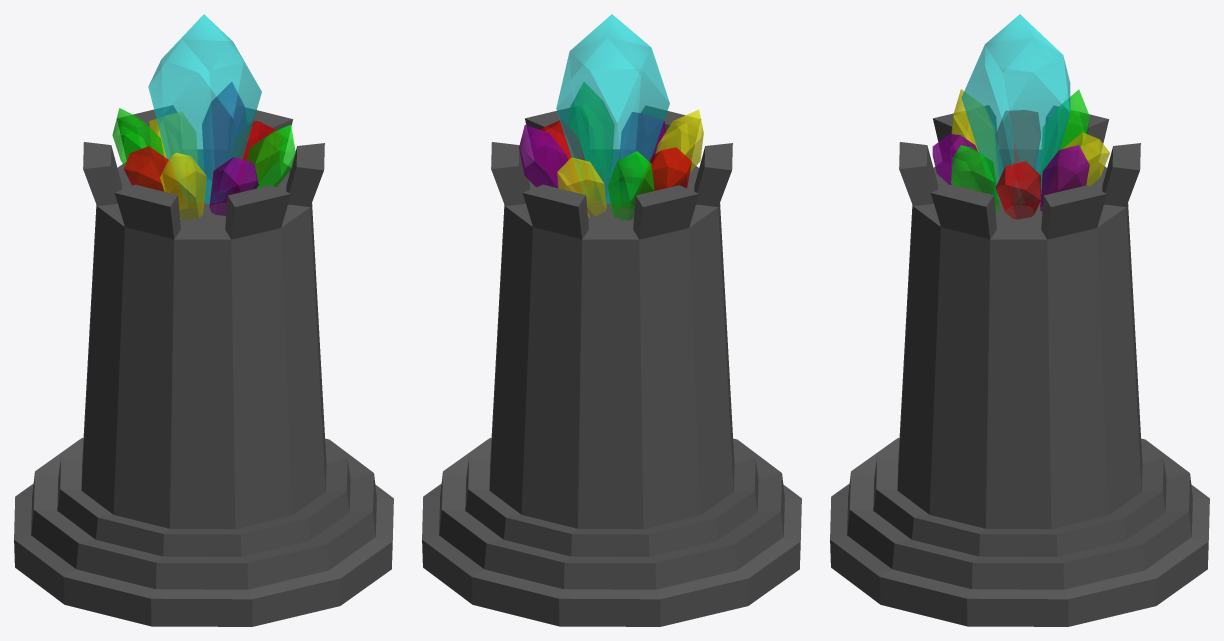
File: TowerM.fbx
3 views of the same model, side by side, from view 1: azimuth 30°, elevation 25°; view 2: azimuth 150°, elevation 25°; view 3: azimuth 270°, elevation 25° (orthographic).
Parts seen in each view (by area): view 1: Tower1, Gem_core, Gem7, Gem8, Gem6, Gem1, Gem3, Gem4, Gem2, Gem5; view 2: Tower1, Gem_core, Gem6, Gem7, Gem5, Gem4, Gem3, Gem2, Gem8, Gem1; view 3: Tower1, Gem_core, Gem3, Gem5, Gem2, Gem1, Gem8, Gem7, Gem6, Gem4.
Part boxes in pixels (<box>): Tower1: <box>14,105,393,626</box>; Gem_core: <box>148,14,261,203</box>; Gem7: <box>202,82,247,179</box>; Gem8: <box>160,152,206,219</box>; Gem6: <box>246,124,295,188</box>; Gem1: <box>231,120,283,181</box>; Gem3: <box>209,157,258,215</box>; Gem4: <box>149,112,197,163</box>; Gem2: <box>124,146,176,193</box>; Gem5: <box>112,108,164,165</box>; Tower1: <box>422,106,801,626</box>; Gem_core: <box>556,14,669,203</box>; Gem6: <box>569,82,614,179</box>; Gem7: <box>519,124,576,192</box>; Gem5: <box>607,151,654,220</box>; Gem4: <box>557,157,606,216</box>; Gem3: <box>619,112,666,162</box>; Gem2: <box>639,147,691,193</box>; Gem8: <box>655,109,703,172</box>; Gem1: <box>541,120,584,179</box>; Tower1: <box>830,105,1209,626</box>; Gem_core: <box>961,14,1070,203</box>; Gem3: <box>932,134,990,193</box>; Gem5: <box>1040,89,1089,181</box>; Gem2: <box>996,110,1040,168</box>; Gem1: <box>995,161,1040,219</box>; Gem8: <box>951,89,999,182</box>; Gem7: <box>1040,145,1089,211</box>; Gem6: <box>951,145,999,213</box>; Gem4: <box>1062,132,1109,186</box>.
Bounding box in the file's own units: 3.44 × 5.34 × 3.44.
